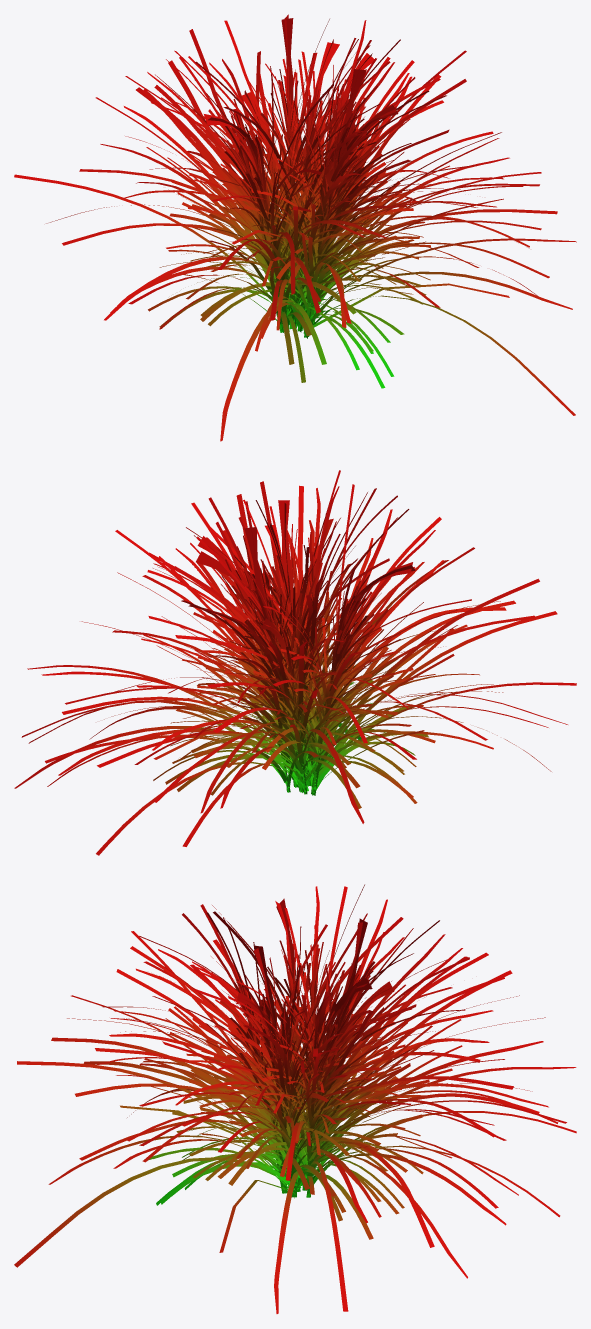
Rendered from Basket Grass_LOD1_Var3_slfpffjr.fbx.
The picture shows the model from 3 angles, top to bottom: view 1: azimuth 30°, elevation 25°; view 2: azimuth 150°, elevation 25°; view 3: azimuth 270°, elevation 25°; orthographic projection.
Parts seen in each view (by area): view 1: _c458_Var3_LOD1; view 2: _c458_Var3_LOD1; view 3: _c458_Var3_LOD1.
Boxes of the visible parts, <box> form: _c458_Var3_LOD1: <box>14,14,576,441</box>; _c458_Var3_LOD1: <box>14,470,576,855</box>; _c458_Var3_LOD1: <box>14,884,576,1313</box>.
Bounding box in the file's own units: 72.09 × 42.58 × 73.16.
